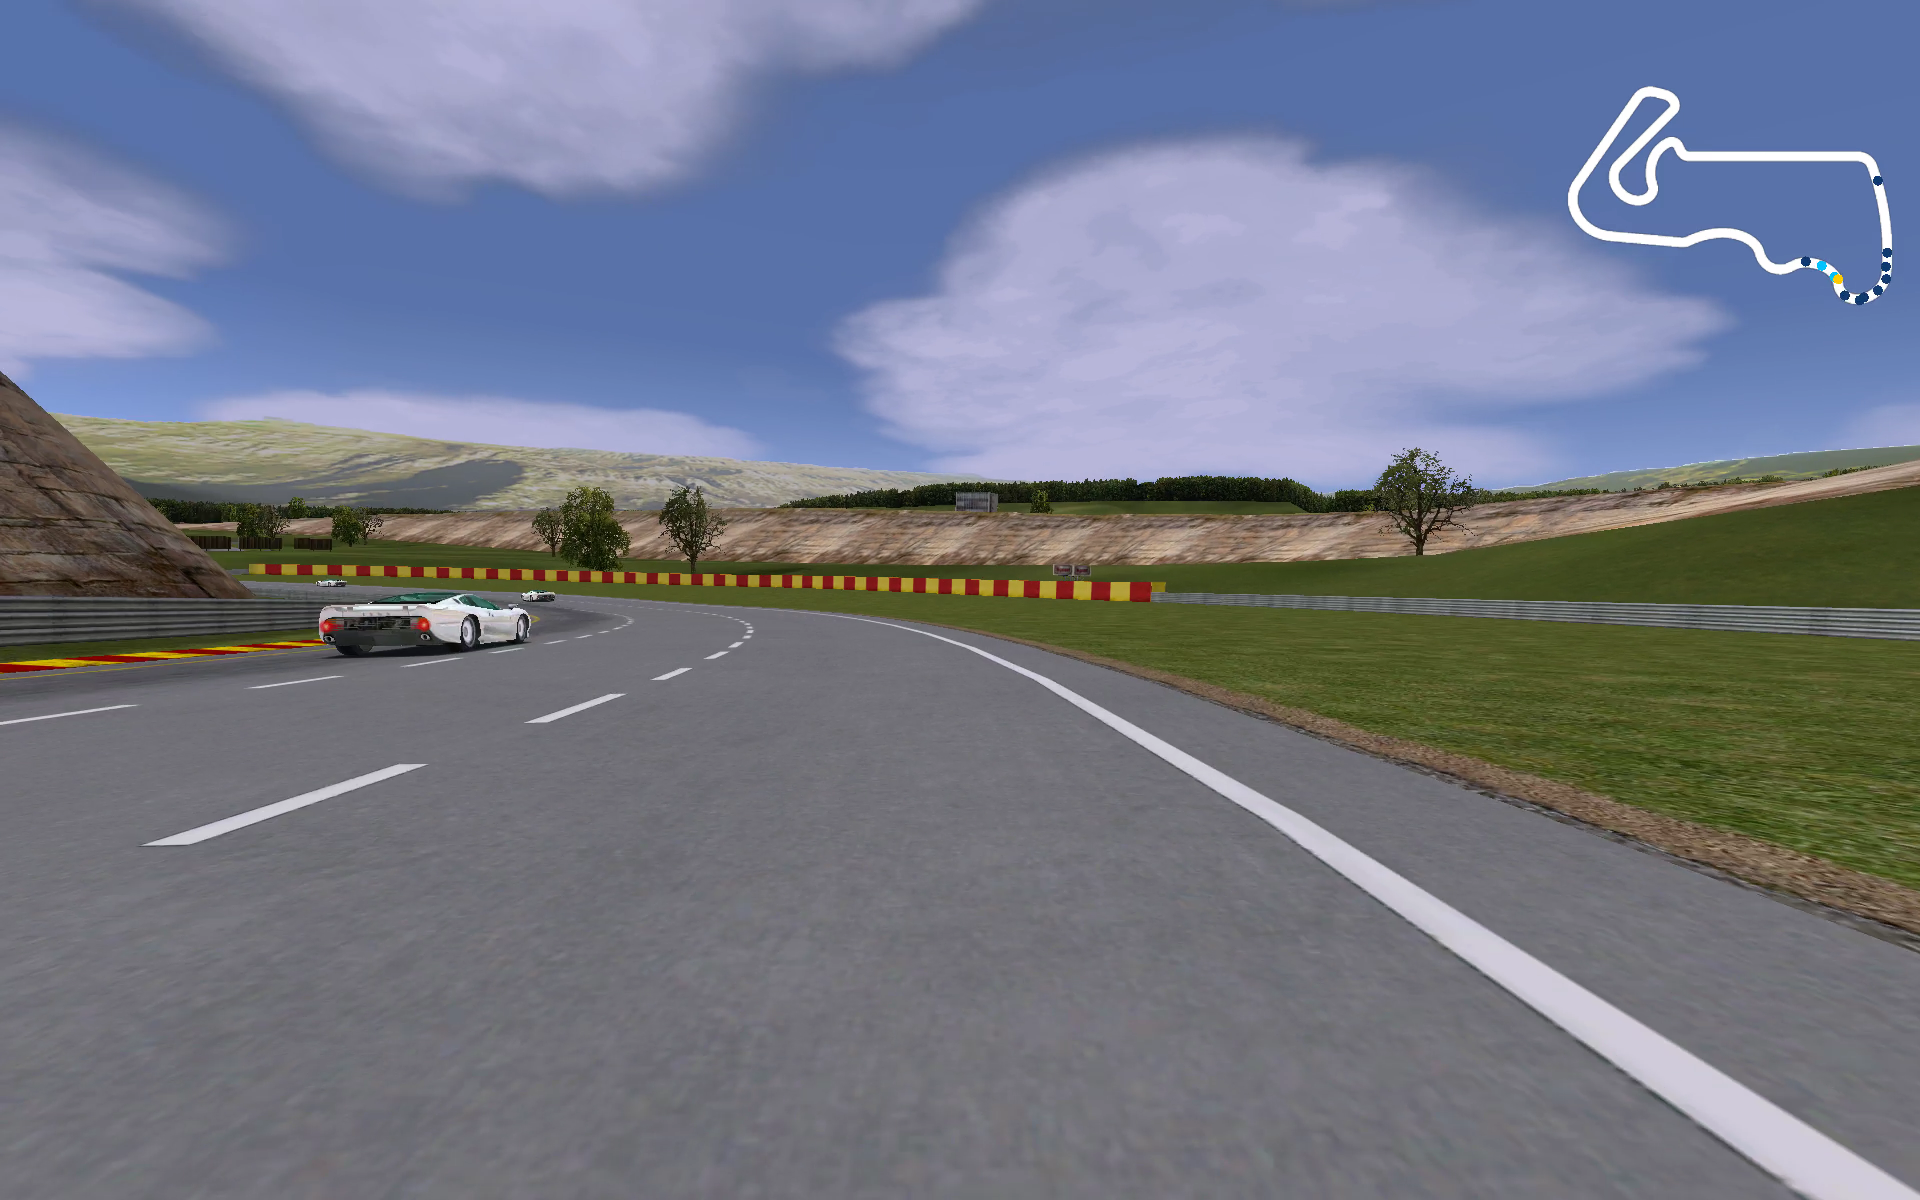car: (312, 588, 536, 658), (518, 589, 558, 606), (315, 576, 348, 589)
